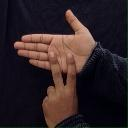hand: (13, 9, 98, 74), (41, 52, 79, 127)
